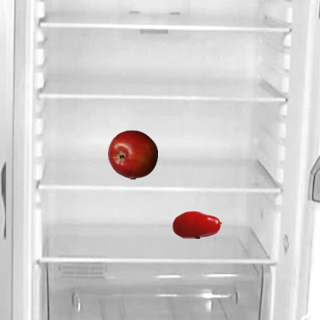Apple Braeburn: (107, 129, 157, 179)
Tomato 2: (171, 199, 221, 249)
